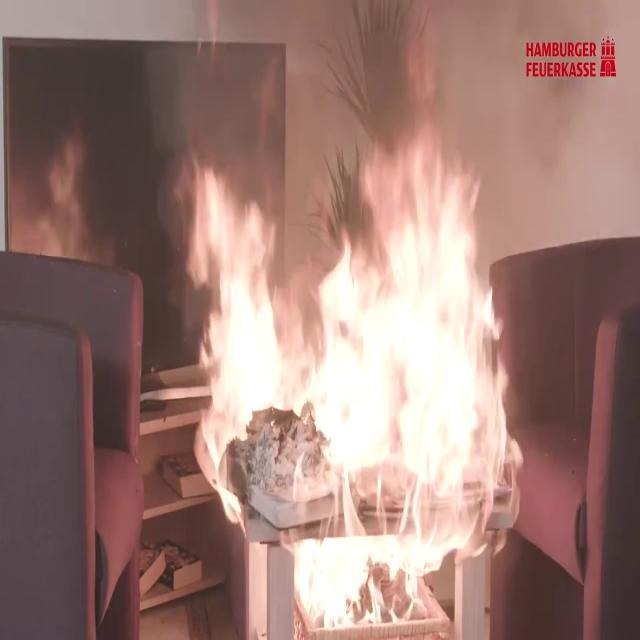Fire: (190, 174, 512, 570), (299, 492, 463, 640), (9, 159, 102, 282)
Smoke: (16, 45, 156, 148), (124, 156, 182, 352)
